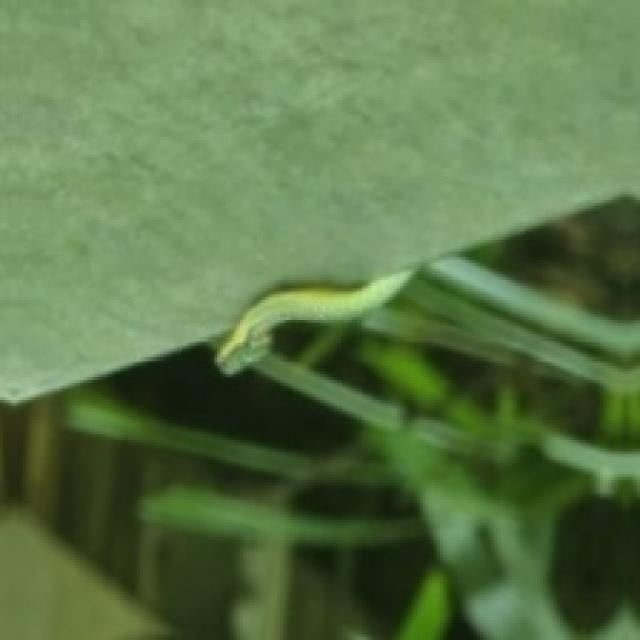paradise tree snake: (216, 271, 414, 374)
